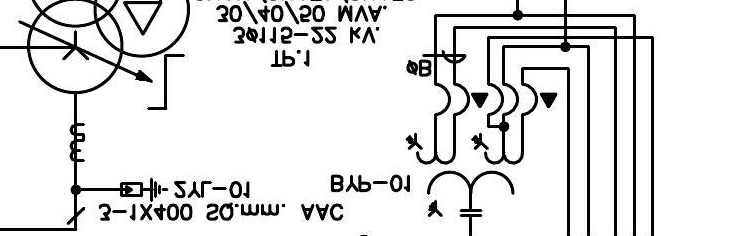115_cvt_3p: (405, 132, 525, 217)
115_la: (120, 177, 169, 203)
